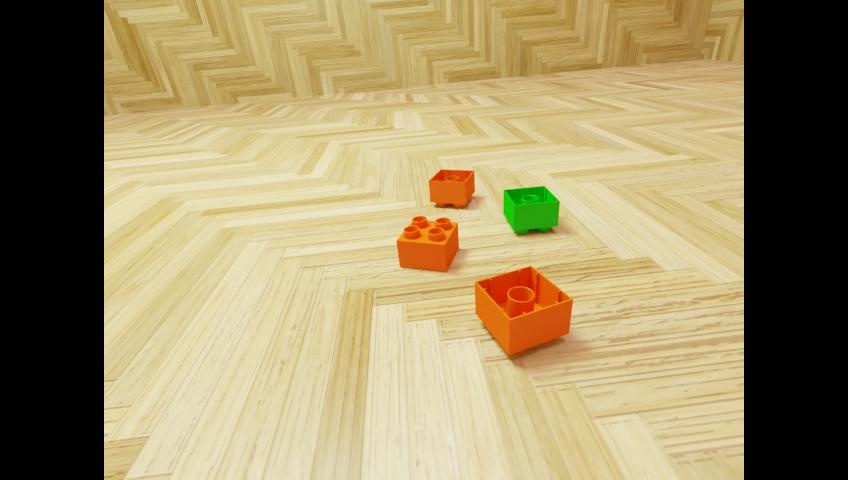2x2_green: (503, 185, 559, 233)
2x2_orange: (475, 264, 572, 354), (396, 215, 458, 271), (428, 168, 474, 207)
